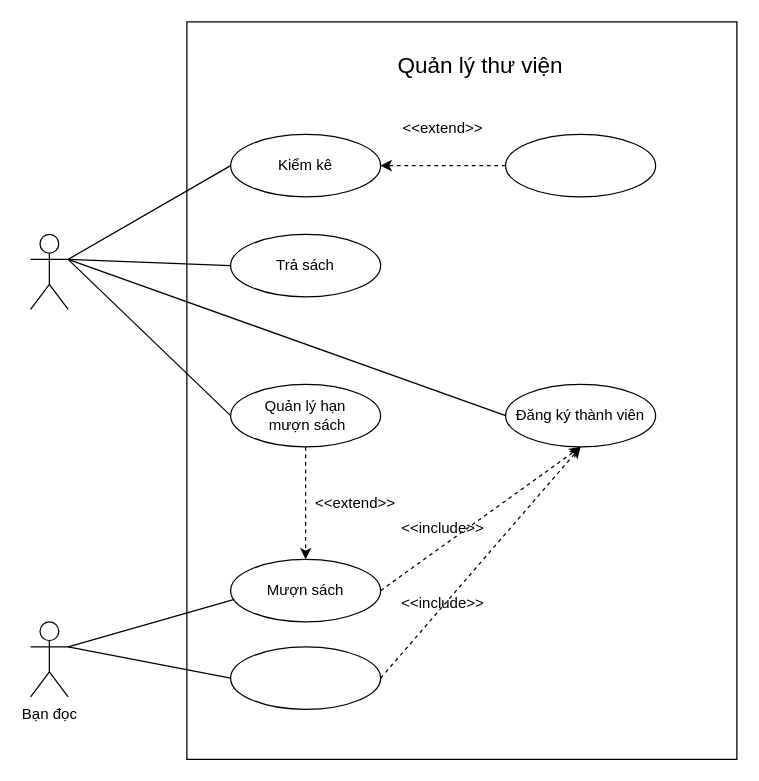
Some shapes in this 759 by 781 pixel diagram are drawn without their labels. Each missing label, with the centre of its shape:
Nhập sách: (580,165)
Thủ thư: (48,271)
Tìm sách: (305,677)
